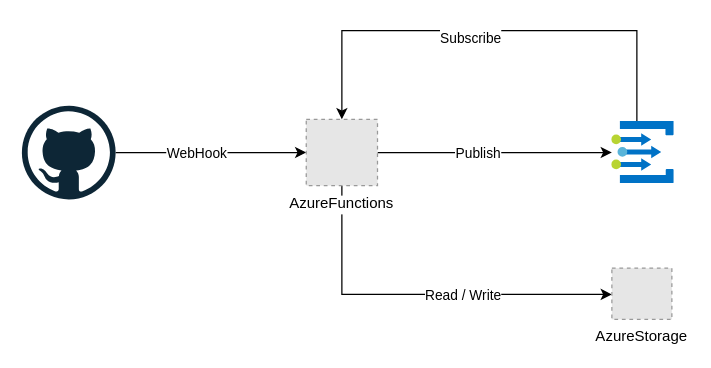
The diagram is 711 pixels wide and 368 high, and some of its shapes have lost their labels. Grey dashed boxes stand in for pictures. The shapes that lost their labels are listed below. From the top down, each one's centre as x and y in pixels, then its label:
At pixel 68 151: "GItHub".
At pixel 642 152: "EventGrid".
